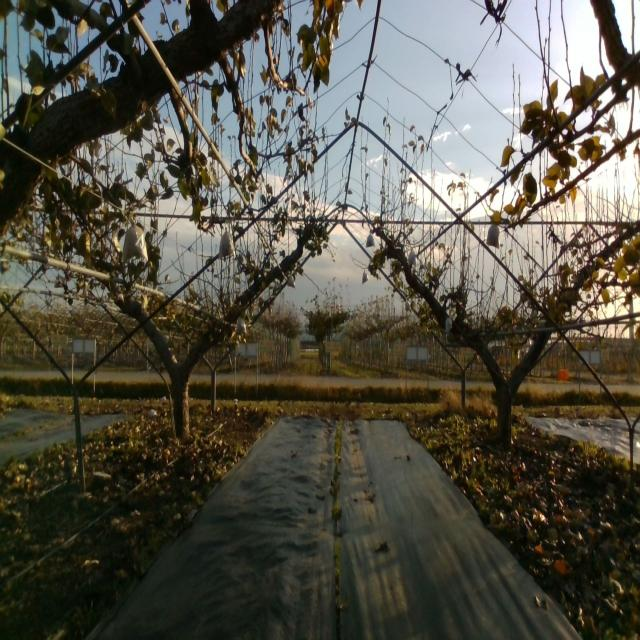pearbags: (122, 216, 149, 265), (217, 225, 236, 258), (486, 222, 500, 249)
